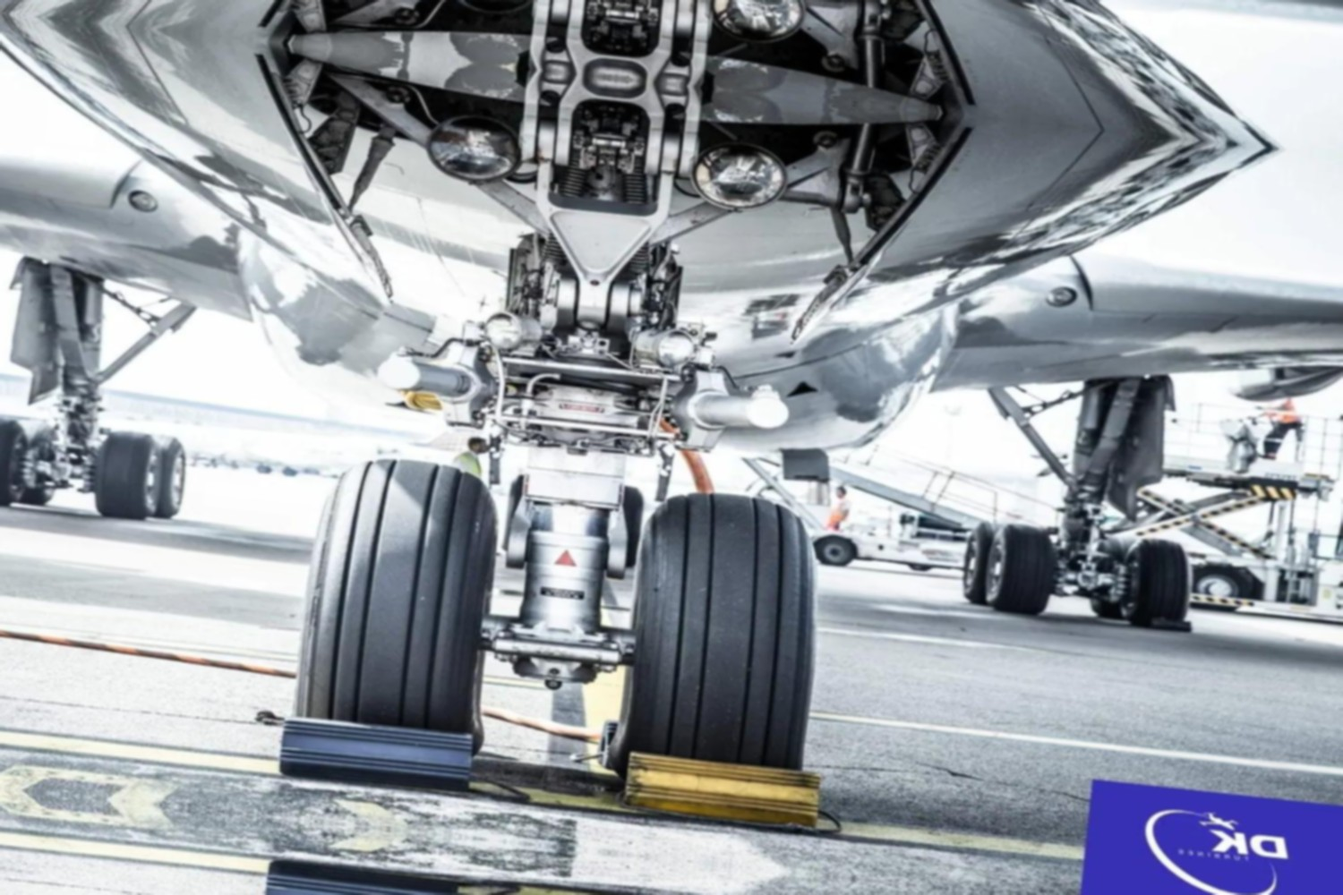chock: (266, 709, 479, 799), (616, 747, 826, 836), (250, 856, 464, 895)
wheel: (608, 488, 836, 799), (295, 452, 514, 758), (502, 470, 650, 581), (962, 517, 1063, 616), (1118, 535, 1199, 631), (90, 427, 163, 521), (1085, 536, 1145, 621), (0, 412, 47, 509), (12, 429, 67, 508), (143, 434, 193, 520), (608, 482, 649, 578), (959, 521, 1003, 606), (1186, 561, 1260, 604), (501, 472, 532, 560), (811, 532, 860, 568), (908, 562, 934, 572)
